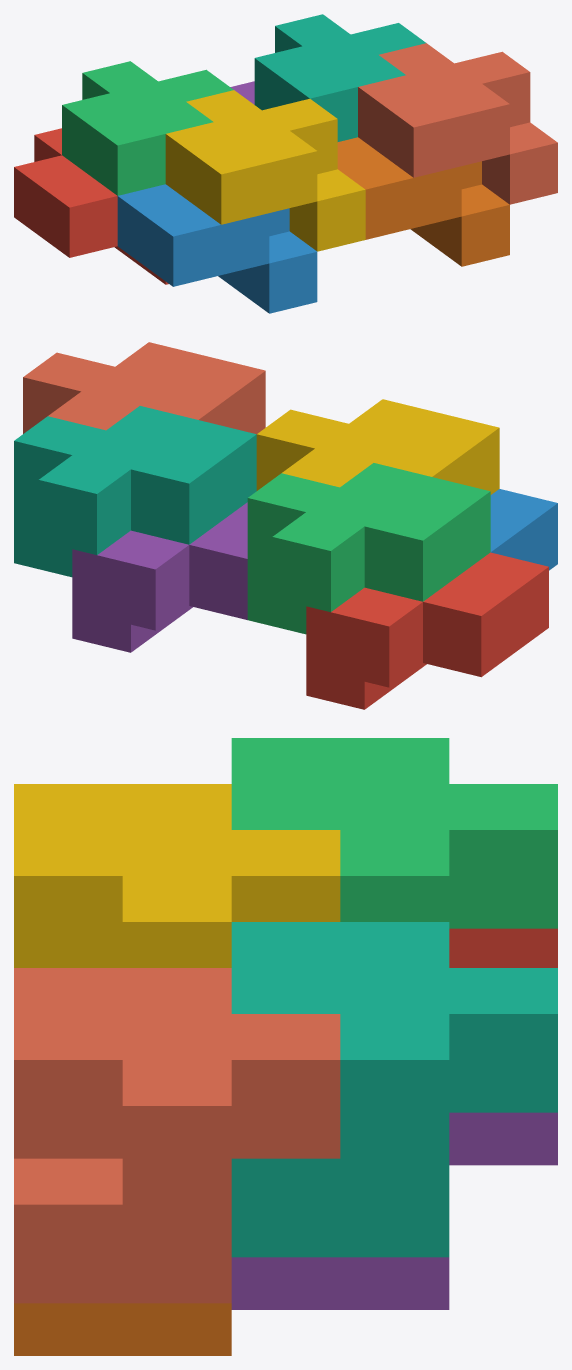
Rendered from tiling.obj.
3 renders of one model, top to bottom at view 1: azimuth 30°, elevation 25°; view 2: azimuth 150°, elevation 25°; view 3: azimuth 270°, elevation 25°, orthographic. The views are drawn at different scales.
Visible parts, largest first — view 1: copy_1_domain_4, copy_1_domain_8, copy_1_domain_2, copy_1_domain_3, copy_1_domain_6, copy_1_domain_7, copy_1_domain_1; view 2: copy_1_domain_3, copy_1_domain_7, copy_1_domain_1, copy_1_domain_5, copy_1_domain_4, copy_1_domain_8, copy_1_domain_2; view 3: copy_1_domain_8, copy_1_domain_7, copy_1_domain_4, copy_1_domain_3, copy_1_domain_5, copy_1_domain_6, copy_1_domain_1.
Boxes of the visible parts, left/top/right/bottom form: copy_1_domain_4: left=165, top=90, right=365, bottom=251; copy_1_domain_8: left=358, top=43, right=557, bottom=204; copy_1_domain_2: left=117, top=184, right=317, bottom=313; copy_1_domain_3: left=62, top=61, right=233, bottom=195; copy_1_domain_6: left=337, top=137, right=509, bottom=266; copy_1_domain_7: left=254, top=14, right=425, bottom=141; copy_1_domain_1: left=14, top=128, right=168, bottom=284; copy_1_domain_3: left=247, top=463, right=490, bottom=634; copy_1_domain_7: left=14, top=406, right=256, bottom=577; copy_1_domain_1: left=306, top=552, right=548, bottom=709; copy_1_domain_5: left=72, top=502, right=247, bottom=652; copy_1_domain_4: left=256, top=399, right=499, bottom=494; copy_1_domain_8: left=23, top=342, right=265, bottom=434; copy_1_domain_2: left=490, top=489, right=557, bottom=570; copy_1_domain_8: left=14, top=968, right=340, bottom=1303; copy_1_domain_7: left=231, top=922, right=557, bottom=1257; copy_1_domain_4: left=14, top=784, right=340, bottom=967; copy_1_domain_3: left=231, top=738, right=557, bottom=928; copy_1_domain_5: left=231, top=1112, right=557, bottom=1309; copy_1_domain_6: left=14, top=1303, right=231, bottom=1355; copy_1_domain_1: left=449, top=928, right=557, bottom=967.
Bounding box in the file's own units: 9 × 3 × 5.
